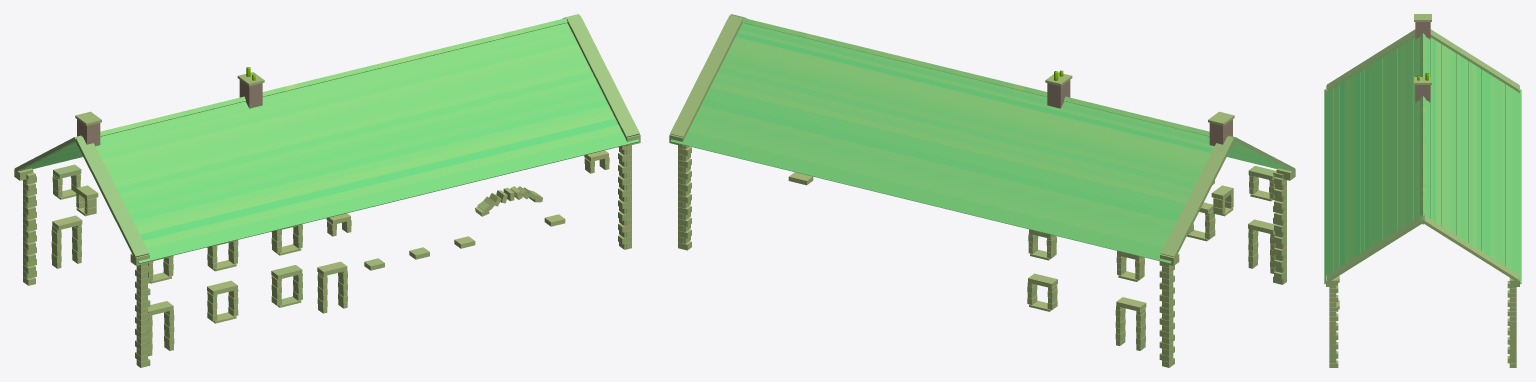
The model's file is SM_Bld_229_Stone.glb.
The picture shows the model from 3 angles, left to right: view 1: azimuth 30°, elevation 25°; view 2: azimuth 150°, elevation 25°; view 3: azimuth 270°, elevation 25°; orthographic projection. The views are drawn at different scales.
Visible parts, largest first — view 1: SM_Bld_229_Stone; view 2: SM_Bld_229_Stone; view 3: SM_Bld_229_Stone.
Boxes of the visible parts, <box> form: SM_Bld_229_Stone: <box>14,14,640,367</box>; SM_Bld_229_Stone: <box>669,14,1295,367</box>; SM_Bld_229_Stone: <box>1324,14,1521,367</box>.
Bounding box in the file's own units: 26.84 × 10.86 × 11.44.
